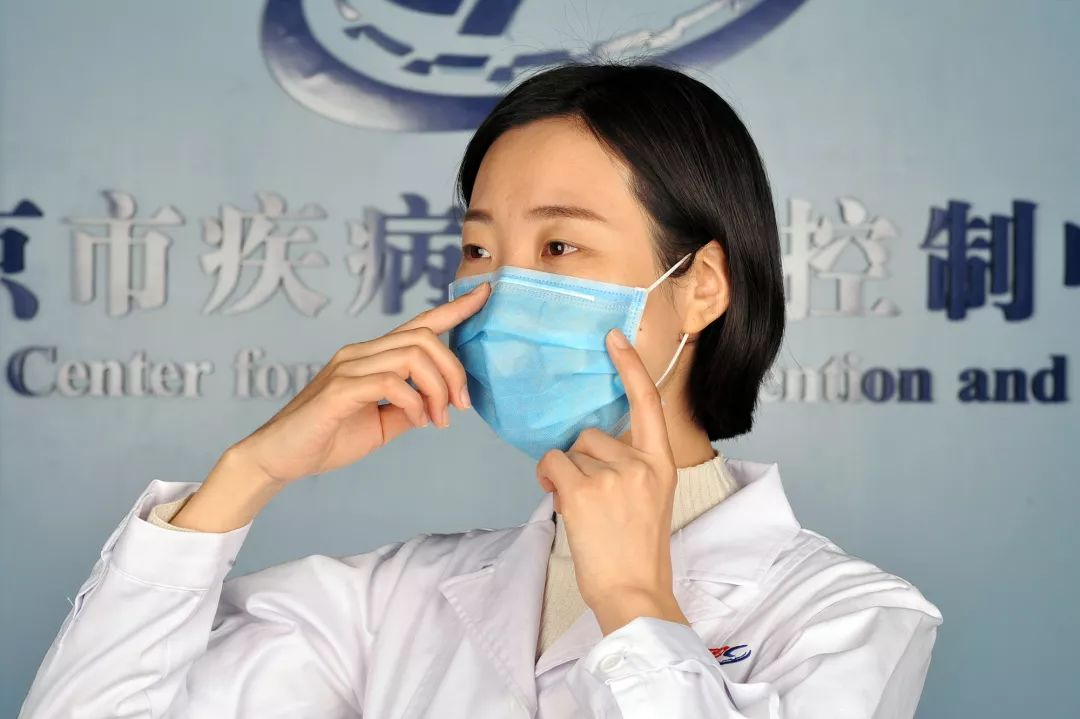with_mask: (443, 62, 788, 465)
